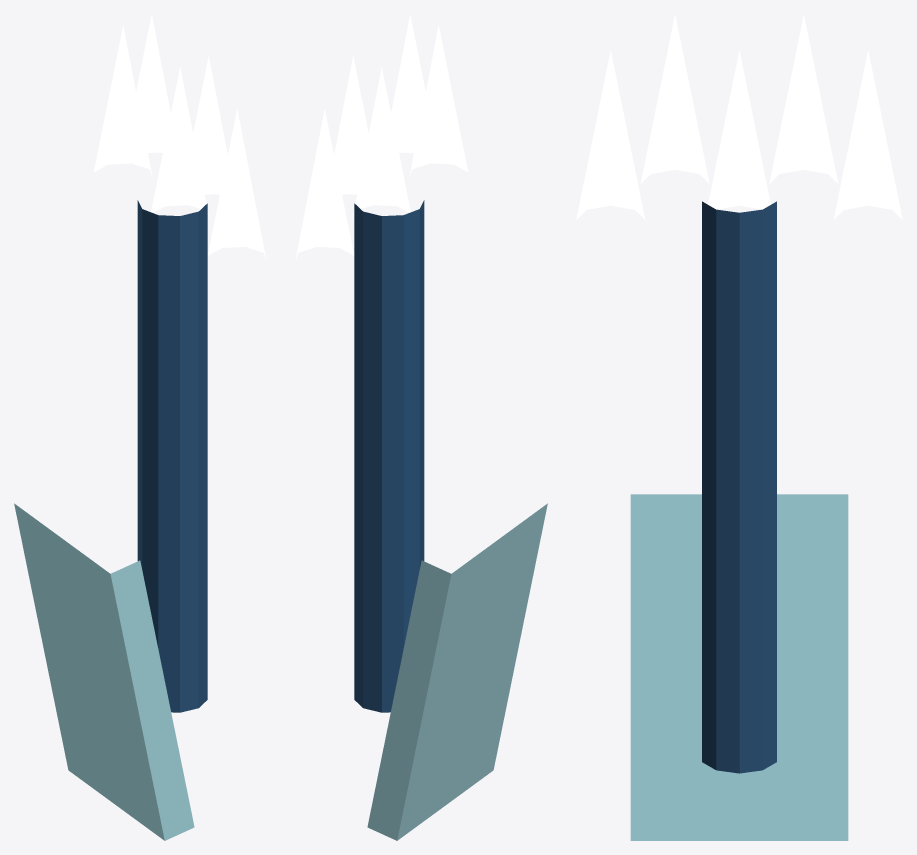
File: ancient-apparition.glb
The picture shows the model from 3 angles, left to right: view 1: azimuth 30°, elevation 25°; view 2: azimuth 150°, elevation 25°; view 3: azimuth 270°, elevation 25°; orthographic projection. The views are drawn at different scales.
Parts seen in each view (by area): view 1: ancient-apparition-wraith-spine, ancient-apparition-ragged-tail, ancient-apparition-ice-crown-4, ancient-apparition-ice-crown-3, ancient-apparition-ice-crown-1, ancient-apparition-ice-crown-0, ancient-apparition-ice-crown-2; view 2: ancient-apparition-wraith-spine, ancient-apparition-ragged-tail, ancient-apparition-ice-crown-0, ancient-apparition-ice-crown-1, ancient-apparition-ice-crown-3, ancient-apparition-ice-crown-4, ancient-apparition-ice-crown-2; view 3: ancient-apparition-ragged-tail, ancient-apparition-wraith-spine, ancient-apparition-ice-crown-0, ancient-apparition-ice-crown-4, ancient-apparition-ice-crown-1, ancient-apparition-ice-crown-3, ancient-apparition-ice-crown-2.
Part boxes in pixels (x1,y1,x2,y2): ancient-apparition-wraith-spine: [137, 200, 207, 712]; ancient-apparition-ragged-tail: [14, 503, 194, 840]; ancient-apparition-ice-crown-4: [207, 109, 266, 260]; ancient-apparition-ice-crown-3: [179, 56, 227, 202]; ancient-apparition-ice-crown-1: [122, 14, 170, 161]; ancient-apparition-ice-crown-0: [94, 26, 152, 177]; ancient-apparition-ice-crown-2: [151, 67, 209, 219]; ancient-apparition-wraith-spine: [354, 200, 424, 712]; ancient-apparition-ragged-tail: [367, 503, 547, 840]; ancient-apparition-ice-crown-0: [295, 109, 354, 260]; ancient-apparition-ice-crown-1: [334, 56, 382, 202]; ancient-apparition-ice-crown-3: [391, 14, 439, 161]; ancient-apparition-ice-crown-4: [409, 26, 467, 177]; ancient-apparition-ice-crown-2: [352, 67, 410, 219]; ancient-apparition-ragged-tail: [630, 494, 848, 840]; ancient-apparition-wraith-spine: [702, 201, 776, 773]; ancient-apparition-ice-crown-0: [833, 50, 902, 219]; ancient-apparition-ice-crown-4: [576, 50, 645, 219]; ancient-apparition-ice-crown-1: [769, 14, 838, 183]; ancient-apparition-ice-crown-3: [640, 14, 709, 183]; ancient-apparition-ice-crown-2: [708, 50, 770, 209].
Bounding box in the file's own units: 0.3807 × 1.9 × 0.66.
